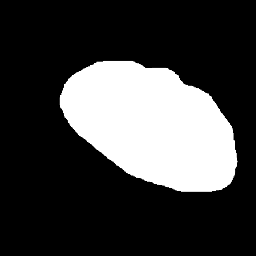mass: (34, 62, 227, 211)
